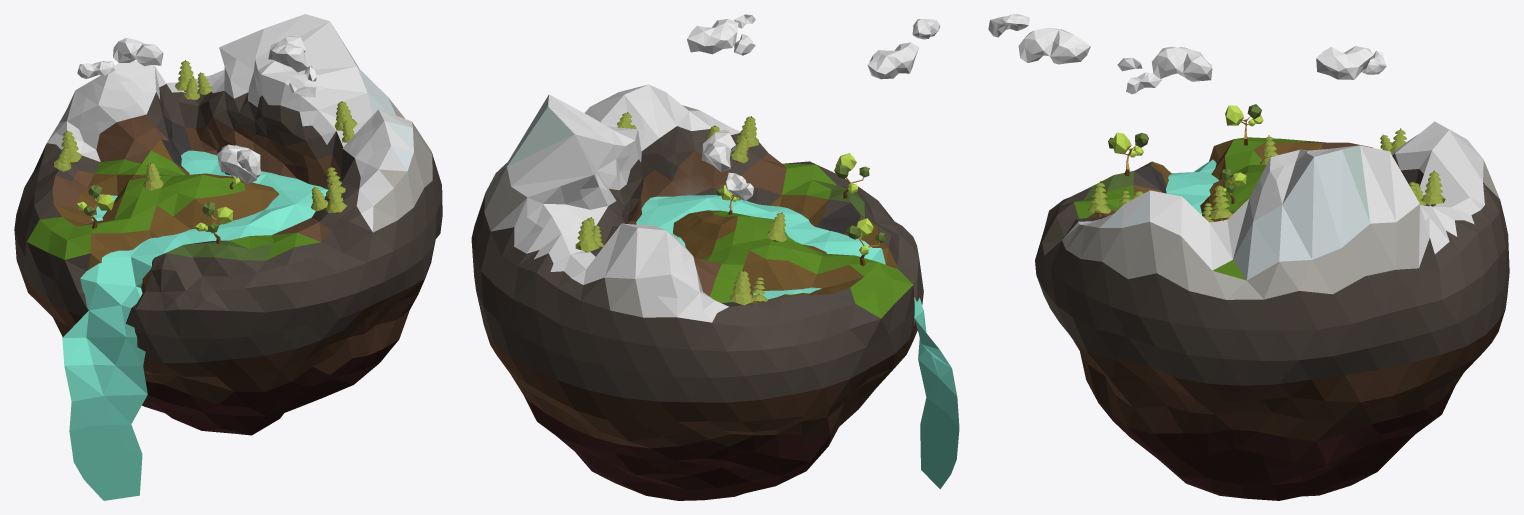
The model's file is island.glb.
The picture shows the model from 3 angles, left to right: view 1: azimuth 30°, elevation 25°; view 2: azimuth 150°, elevation 25°; view 3: azimuth 270°, elevation 25°; orthographic projection. The views are drawn at different scales.
Visible parts, largest first — view 1: Icosphere, Plane, Icosphere.002, Cube, Cube.001; view 2: Icosphere, Plane, Icosphere.002, Cube.001, Cube, Plane.009; view 3: Icosphere, Icosphere.002, Plane, Cube, Cube.001.
Boxes of the visible parts, x1,y1,x2,y2 form: Icosphere: (14, 14, 442, 435); Plane: (62, 150, 328, 500); Icosphere.002: (77, 36, 316, 183); Cube: (195, 202, 233, 243); Cube.001: (77, 184, 114, 228); Icosphere: (471, 84, 923, 500); Plane: (636, 195, 959, 489); Icosphere.002: (687, 14, 939, 200); Cube.001: (845, 218, 885, 265); Cube: (834, 153, 869, 198); Plane.009: (729, 270, 754, 305); Icosphere: (1035, 121, 1509, 500); Icosphere.002: (988, 14, 1386, 94); Plane: (1166, 159, 1218, 214); Cube: (1108, 132, 1148, 176); Cube.001: (1225, 104, 1263, 145).
Size of the model in its own units: 20.92 by 20.54 by 21.87.
